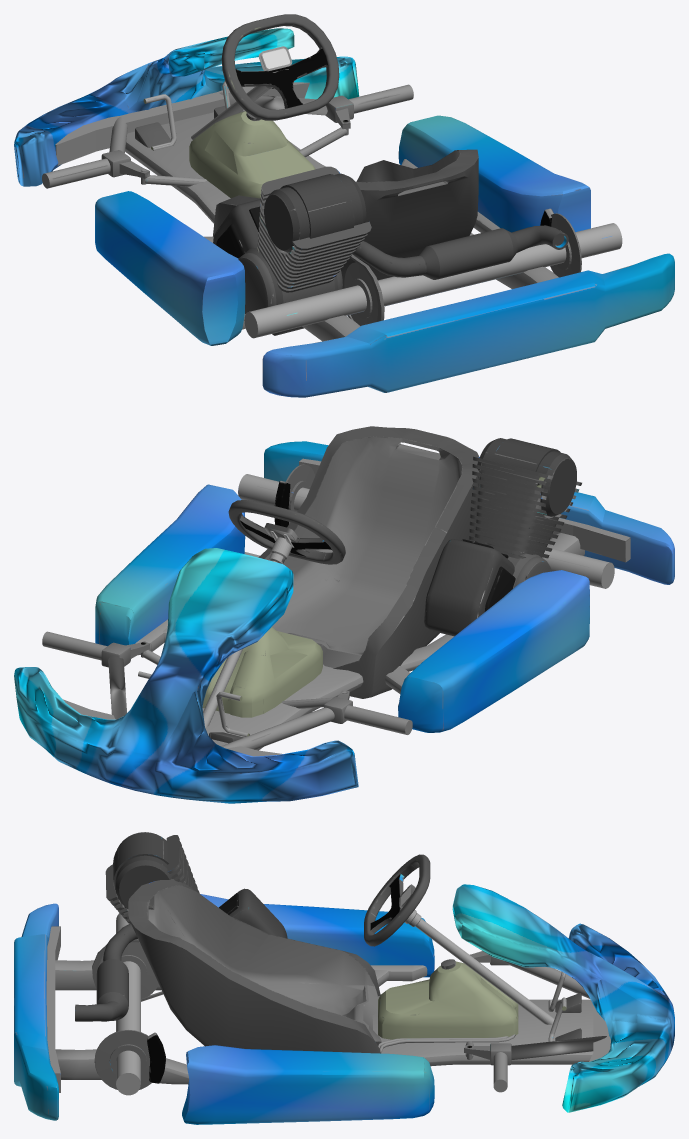
File: Gokart2.fbx
The picture shows the model from 3 angles, top to bottom: view 1: azimuth 30°, elevation 25°; view 2: azimuth 150°, elevation 25°; view 3: azimuth 270°, elevation 25°; orthographic projection. The views are drawn at different scales.
Visible parts, largest first — view 1: Cube.026; view 2: Cube.026; view 3: Cube.026.
Part boxes in pixels (bbox=[...]): Cube.026: bbox=[14, 14, 674, 397]; Cube.026: bbox=[14, 426, 674, 803]; Cube.026: bbox=[14, 832, 674, 1124].
Bounding box in the file's own units: 1.28 × 0.5784 × 1.94.
